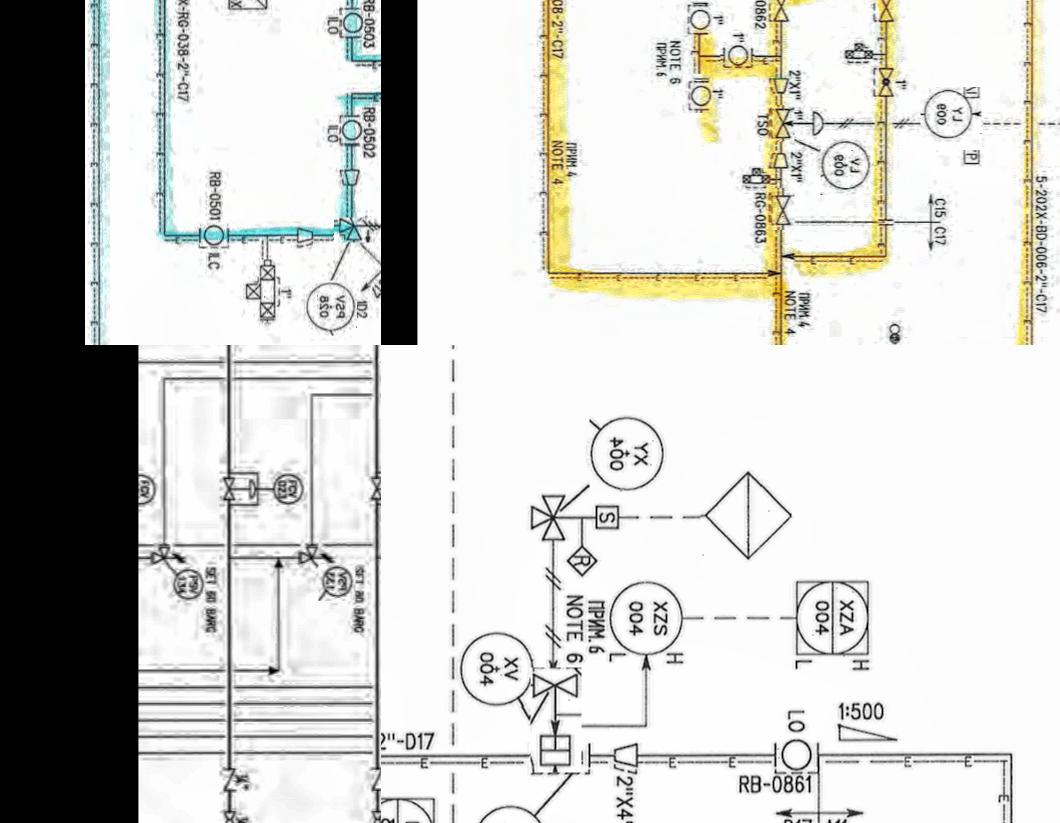2 WAY VALVE: (242, 259, 282, 323)
3 WAY GENERAL VALVE: (524, 480, 572, 551)
ANGLE RELIEF VALVE: (331, 218, 380, 243), (292, 543, 338, 569), (146, 543, 189, 569)
CONCENTRIC REDUCER: (610, 740, 644, 776), (767, 73, 792, 98), (336, 168, 366, 188), (772, 148, 792, 176)
DCS ACCESSIBLE: (792, 578, 873, 660), (381, 792, 440, 823)
DIAPHRAGM ACTUATED VALVE: (211, 475, 258, 506), (364, 472, 381, 504)
END CAP: (806, 103, 832, 138)
FIELD INSTRUMENT: (587, 415, 665, 491), (457, 630, 535, 706), (608, 580, 683, 658), (920, 88, 981, 152), (819, 131, 870, 196), (298, 280, 356, 336), (776, 737, 818, 775), (316, 564, 354, 602), (476, 805, 550, 823), (680, 74, 711, 114), (270, 473, 304, 509), (719, 42, 754, 74), (168, 568, 203, 598), (684, 3, 714, 34), (339, 114, 364, 145), (340, 9, 364, 36), (200, 224, 228, 246)
GATE VALVE: (770, 188, 794, 230), (770, 106, 794, 142), (872, 0, 901, 27), (767, 0, 792, 26)
GLOBE VALVE: (872, 64, 900, 105)
HARDWIRED INTERLOCK FIELD: (565, 542, 603, 580)
HARDWIRED INTERLOCK PRIMARY.: (698, 467, 790, 565)
PISTON ACTUATED VALVE: (528, 668, 580, 774)
PLUG VALVE: (220, 806, 240, 823), (364, 808, 381, 823)
SPECIAL PIPING ITEM: (224, 0, 270, 16)
SPEED FLOW METER: (590, 499, 622, 533)
